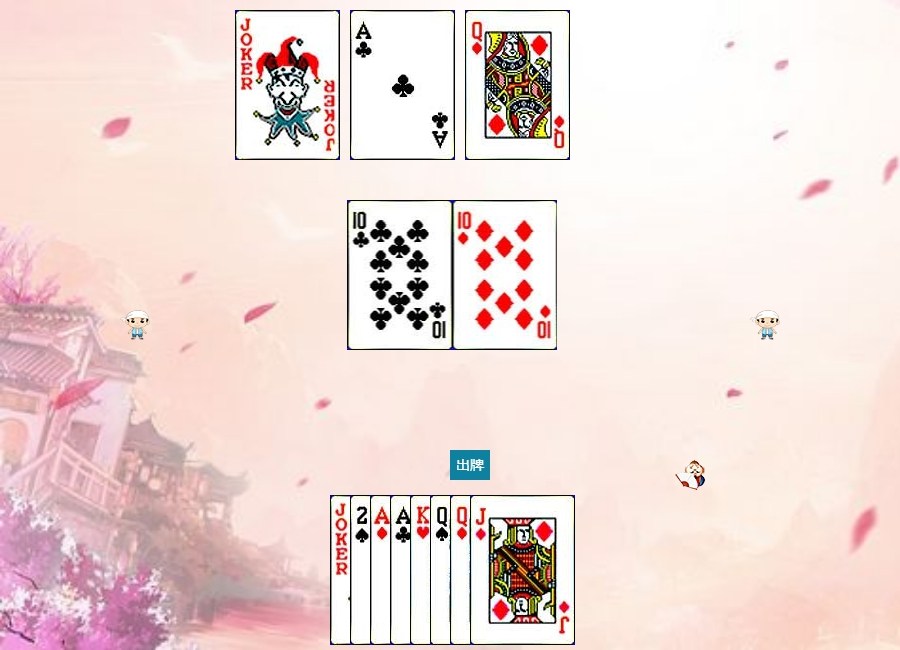10~1: (453, 200, 558, 350)
10~2: (348, 200, 453, 350)
11~1: (470, 495, 575, 645)
12~1: (465, 10, 570, 160), (450, 495, 555, 645)
12~4: (430, 495, 535, 645)
13~3: (410, 495, 515, 645)
14~1: (370, 495, 475, 645)
14~2: (350, 10, 455, 160), (390, 495, 495, 645)
15~4: (350, 495, 455, 645)
18~4: (235, 10, 340, 160), (330, 495, 435, 645)
